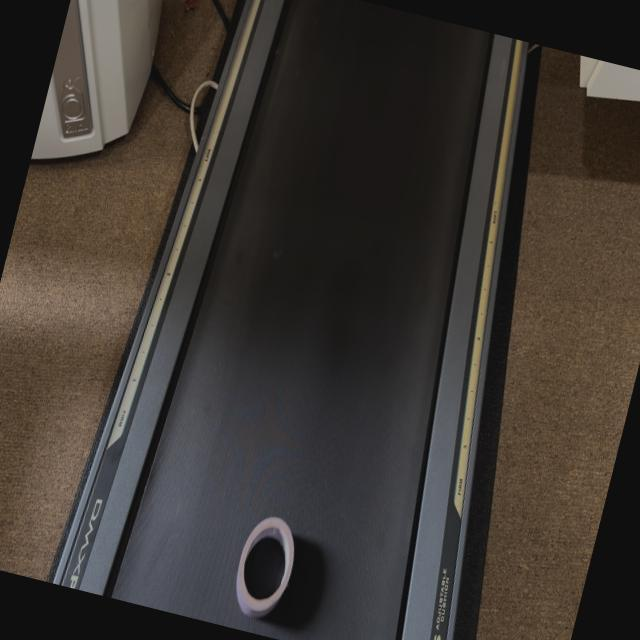Trash: (226, 509, 304, 624)
